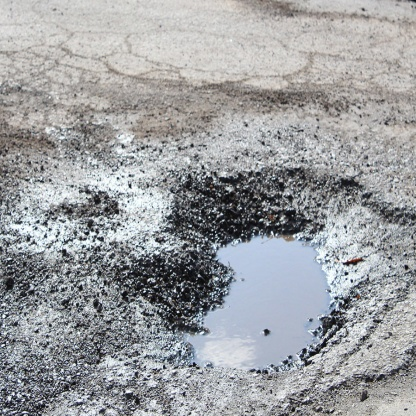pothole: (82, 140, 416, 415)
